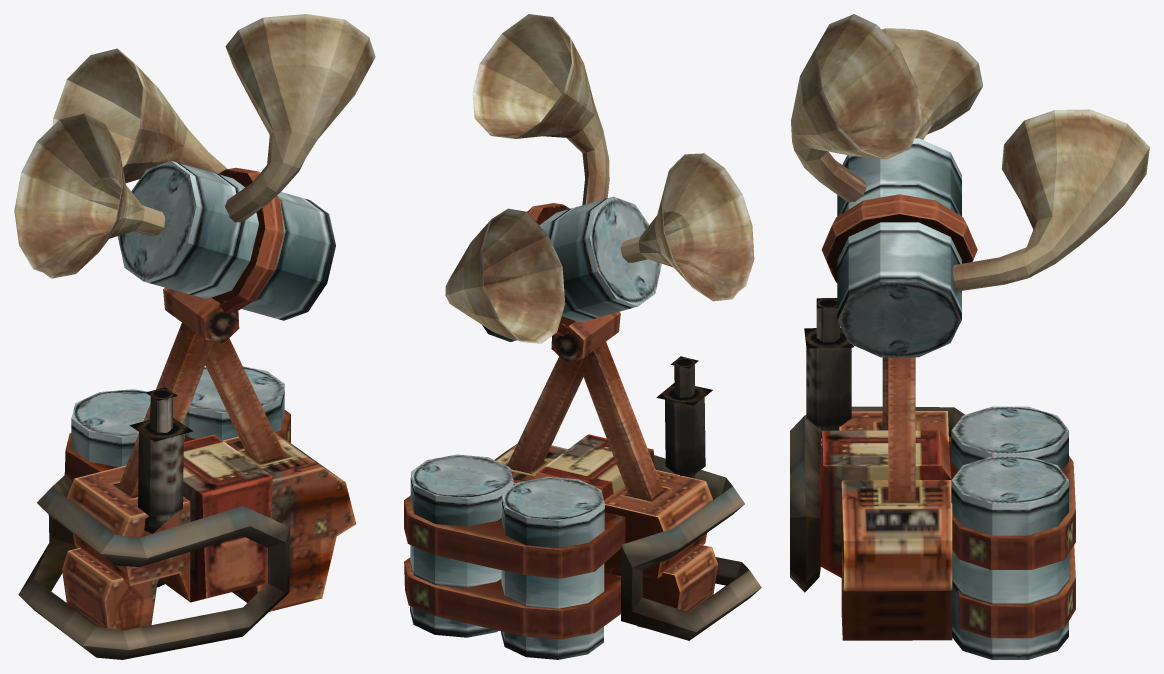
The model's file is C1SMLISTENPOST.obj.
The picture shows the model from 3 angles, left to right: view 1: azimuth 30°, elevation 25°; view 2: azimuth 150°, elevation 25°; view 3: azimuth 270°, elevation 25°; orthographic projection. The views are drawn at different scales.
Parts seen in each view (by area): view 1: Node 3, Node 7, Node 0, Node 1, Node 4, Node 2, Node 5, Node 6; view 2: Node 5, Node 3, Node 1, Node 0, Node 4, Node 2, Node 7, Node 6; view 3: Node 5, Node 3, Node 7, Node 2, Node 1, Node 4, Node 0, Node 6.
Boxes of the visible parts, box(x1,y1,x2,y2) form: Node 3: box(117, 160, 335, 495); Node 7: box(67, 432, 356, 611); Node 0: box(18, 474, 289, 659); Node 1: box(225, 14, 375, 222); Node 4: box(14, 113, 164, 278); Node 2: box(52, 48, 227, 183); Node 5: box(64, 366, 290, 587); Node 6: box(129, 387, 193, 533); Node 5: box(404, 454, 625, 659); Node 3: box(482, 196, 663, 498); Node 1: box(472, 14, 609, 205); Node 0: box(621, 455, 761, 640); Node 4: box(620, 153, 754, 301); Node 2: box(445, 208, 565, 343); Node 7: box(494, 434, 712, 579); Node 6: box(656, 356, 712, 478); Node 5: box(949, 406, 1075, 659); Node 3: box(821, 138, 977, 501); Node 7: box(819, 411, 952, 640); Node 2: box(952, 109, 1149, 291); Node 1: box(791, 14, 921, 202); Node 4: box(881, 28, 982, 139); Node 0: box(790, 406, 964, 592); Node 6: box(804, 298, 853, 431).
Size of the model in its own units: 3.22 by 5.91 by 3.18.
8 materials, 8 textured.
